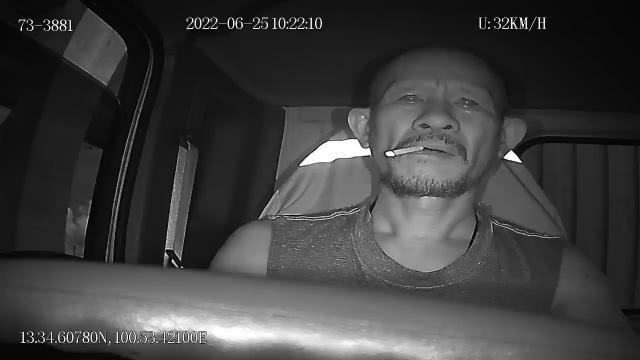SafeDriving: (390, 84, 430, 112), (448, 86, 484, 114)
Smoking: (386, 145, 422, 159)
